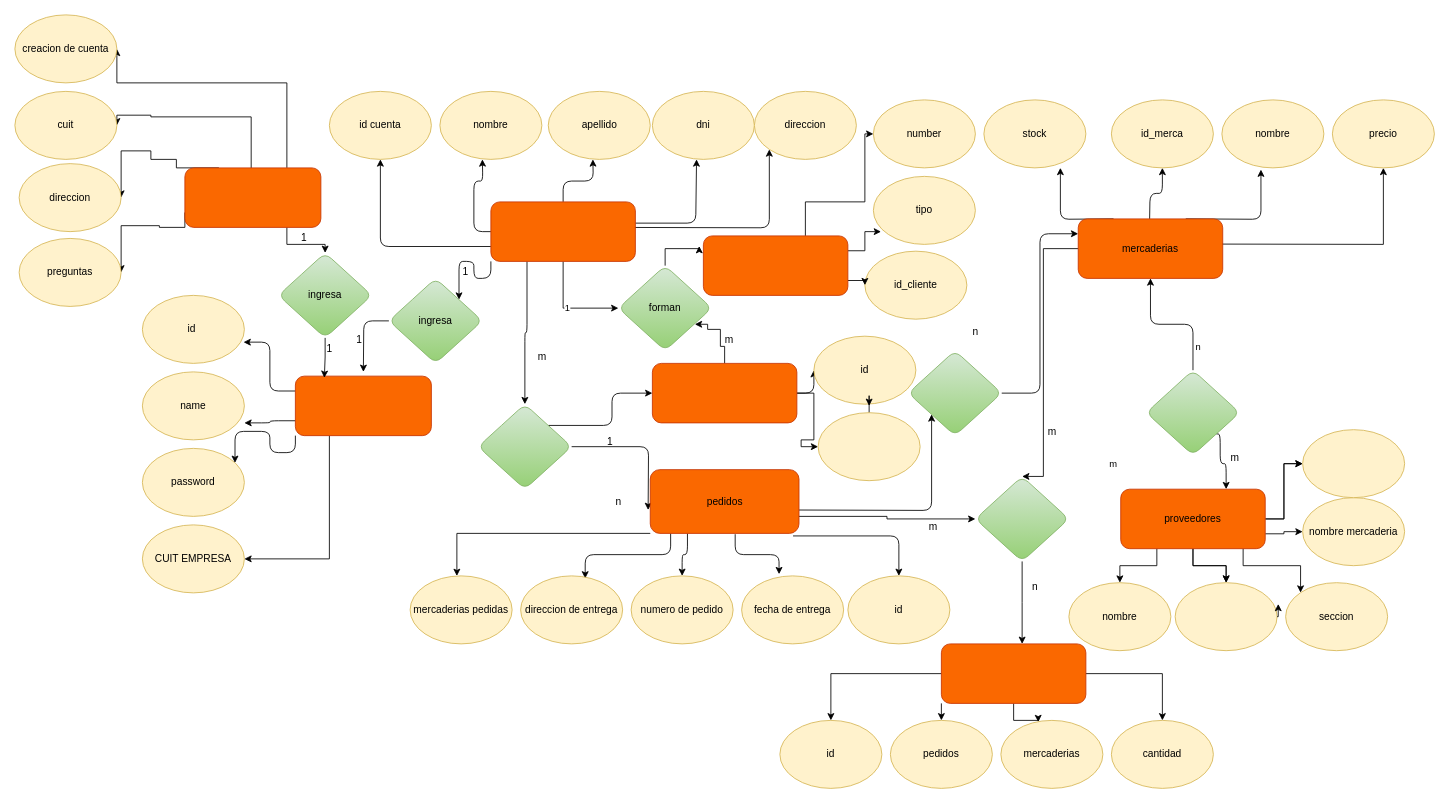
Some shapes in this 1449 by 803 pixel diagram are drawn without their labels. The shapes that lost their labels are listed below. From the top down, each one's centre as x and y in pixels, then its label:
the point at 252,197: Pagina de empresa
the point at 562,231: Datos de cliente
the point at 775,265: cliente_reclamo
the point at 363,405: cuenta
the point at 724,393: reclamos
the point at 954,393: contiene
the point at 1192,412: entregan
the point at 524,446: realiza
the point at 868,446: tipo de reclamo
the point at 1353,463: id de mercaderia
the point at 1022,518: combinados hacen
the point at 1225,616: telefono
the point at 1013,673: pedidos_mercaderia
